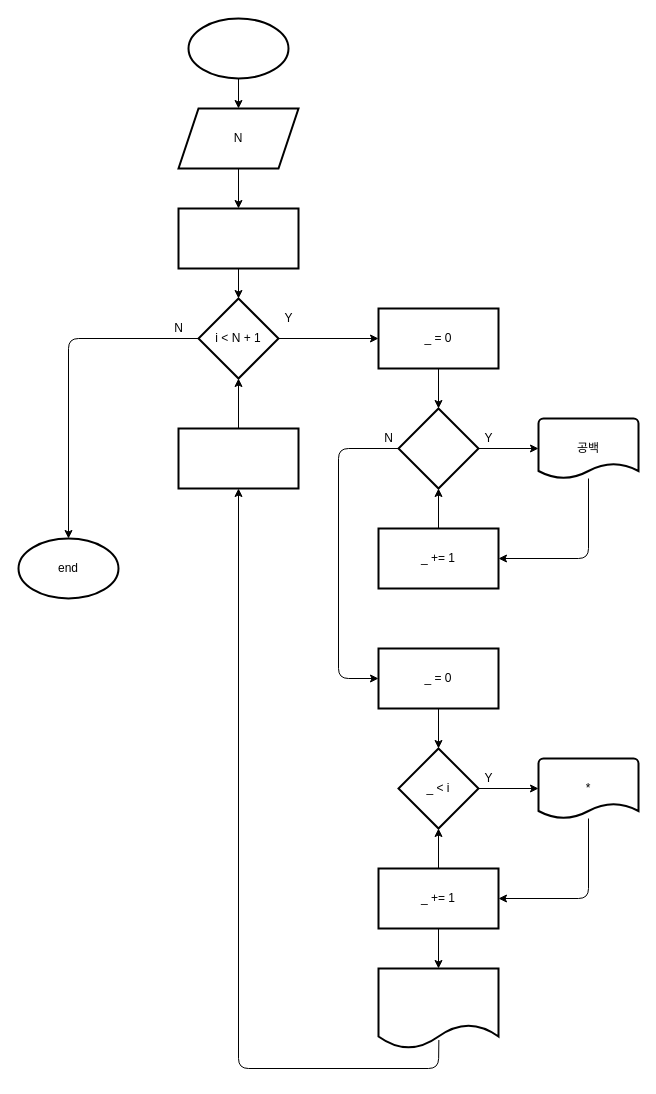
The diagram is 656 pixels wide and 1094 high, and some of its shapes have lost their labels. The centre of each missing label's shape, as x and y in pixels:
"_ < N - i" goes at point 438,448.
"i += 1" goes at point 238,458.
"i = 1" goes at point 238,238.
"start" goes at point 238,48.
"줄바꿈" goes at point 438,1008.
